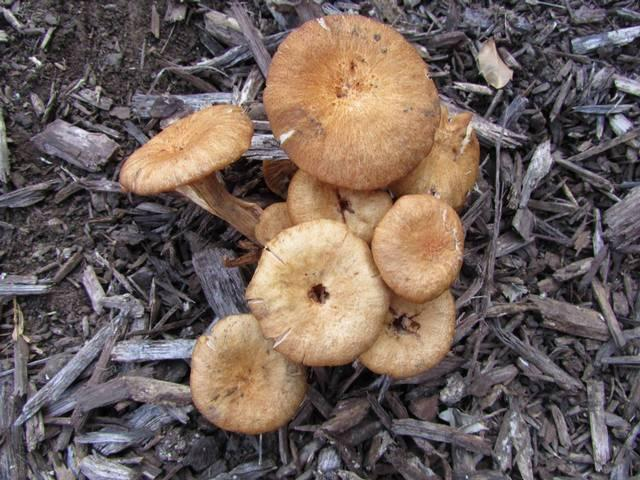Edible Mushroom: (191, 192, 480, 436), (262, 17, 480, 190), (118, 102, 264, 244)
